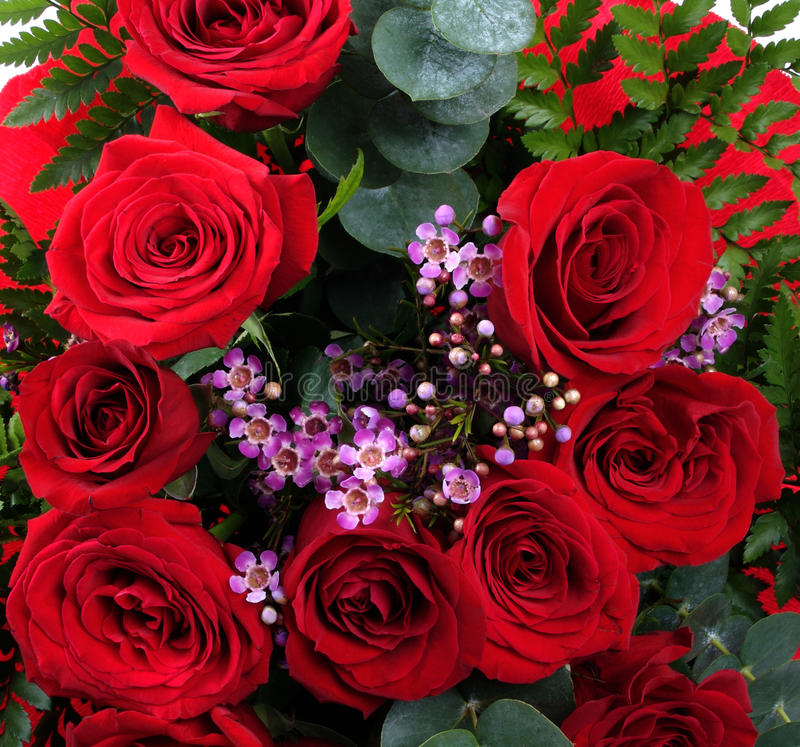RedRose: (20, 110, 323, 372), (531, 344, 791, 577), (0, 472, 248, 713), (487, 142, 719, 380), (435, 441, 649, 681), (266, 481, 480, 712), (4, 332, 220, 522), (61, 0, 360, 125), (547, 617, 762, 747), (58, 691, 273, 747)
